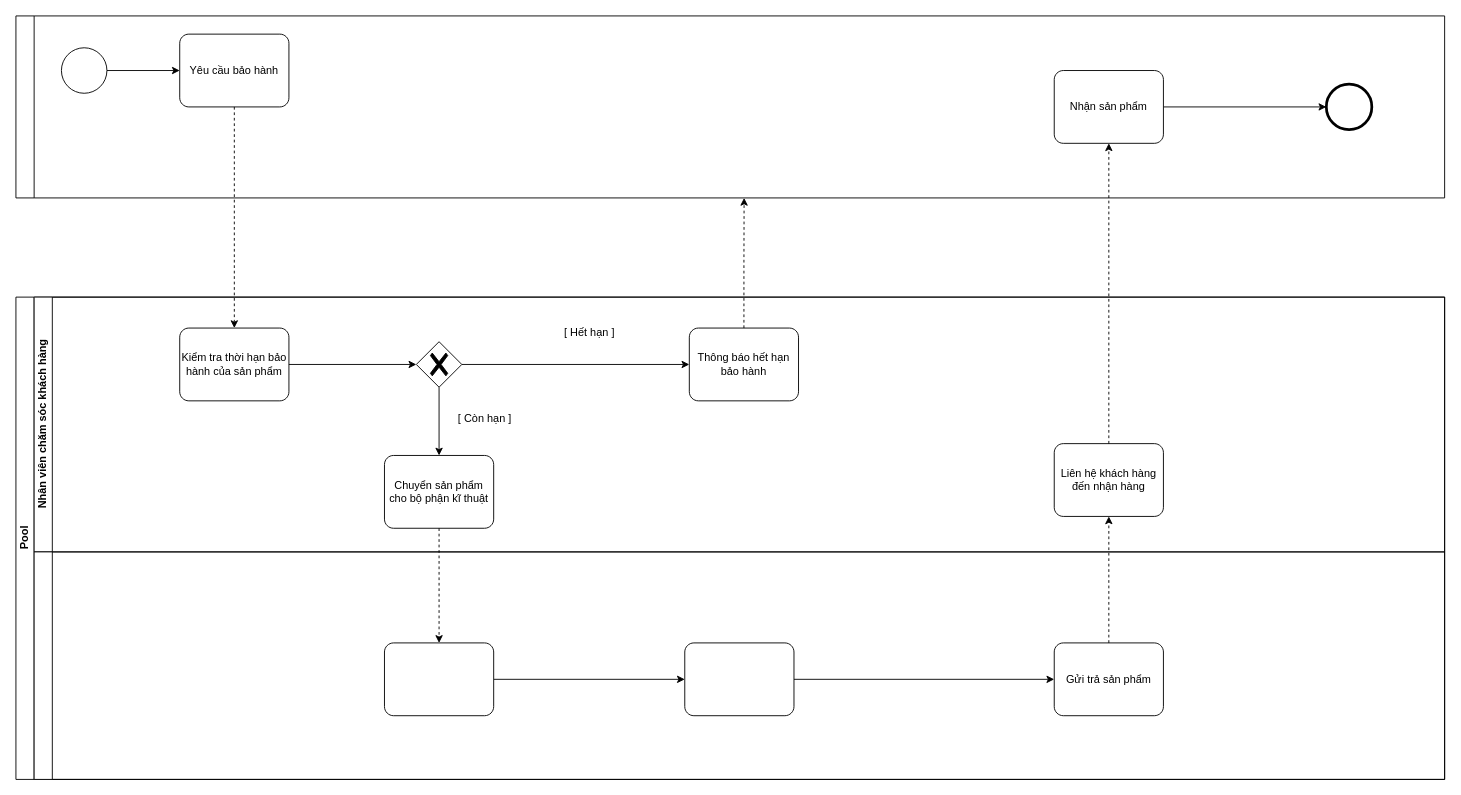
This 1461x795 diagram has some shape labels left out. Each missing label, with the box of its shape:
Khách hàng: (15, 15, 1445, 198)
Kĩ thuật viên: (33, 551, 1445, 779)
Sửa chữa sản phẩm: (684, 642, 794, 716)
Đánh giá sản phẩm: (384, 642, 494, 716)
